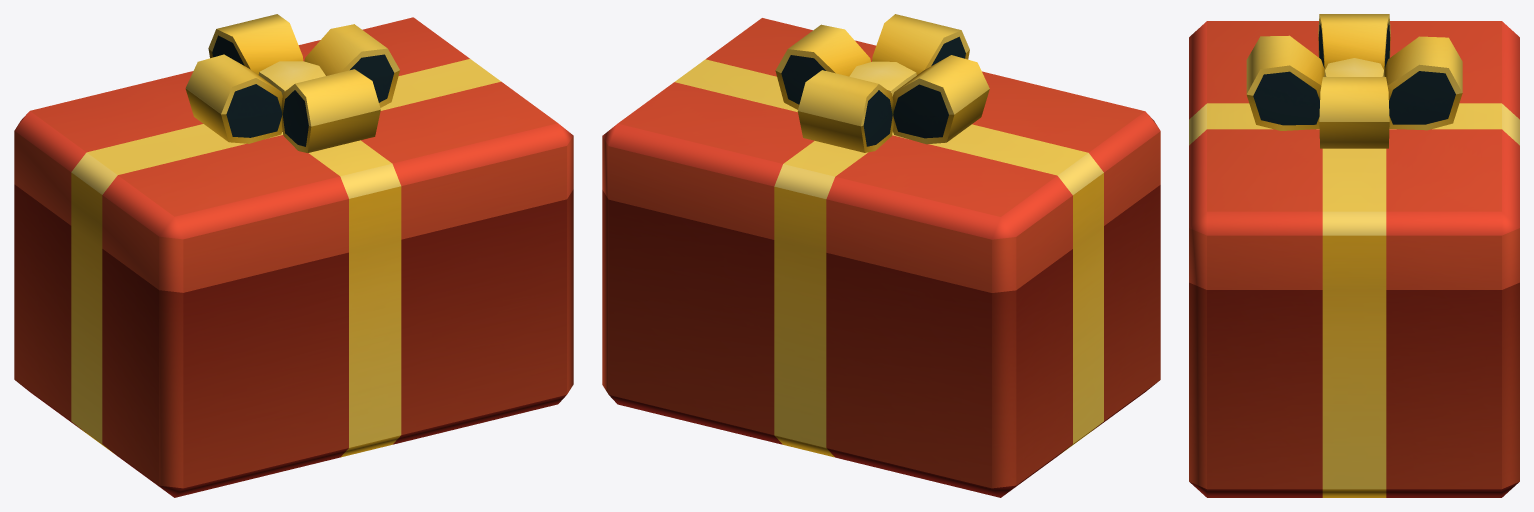
The model's file is presi_square_1_red.fbx.
3 views of the same model, side by side, from view 1: azimuth 30°, elevation 25°; view 2: azimuth 150°, elevation 25°; view 3: azimuth 270°, elevation 25° (orthographic).
Visible parts, largest first — view 1: presi_square_1_red; view 2: presi_square_1_red; view 3: presi_square_1_red.
Part boxes in pixels (x1,y1,x2,y2): presi_square_1_red: (14, 14, 573, 497); presi_square_1_red: (602, 14, 1160, 497); presi_square_1_red: (1189, 14, 1519, 497).
Bounding box in the file's own units: 156 × 124 × 106.
Materials: 1 (1 with a texture image).
